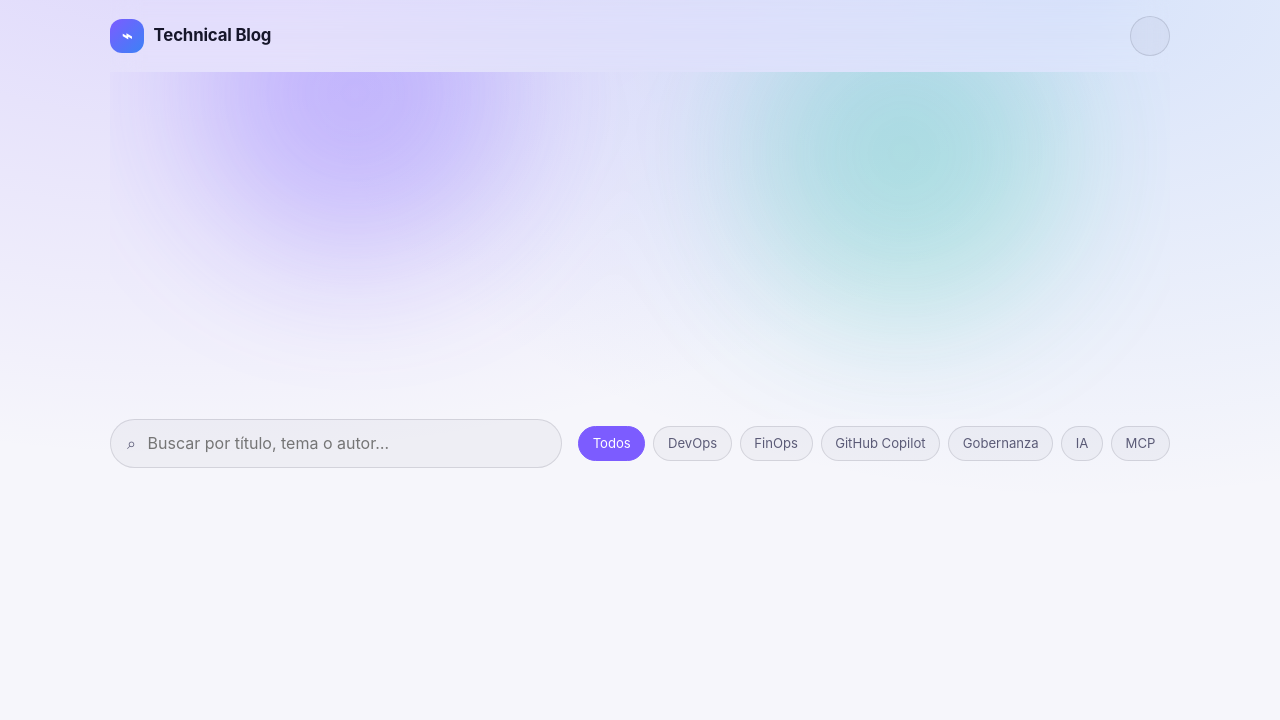
App › filtra los artículos al escribir en el buscador
Step 1. Type "mcp" into the search field named "Buscar artículos" → (345, 443), box [146,429,545,458]
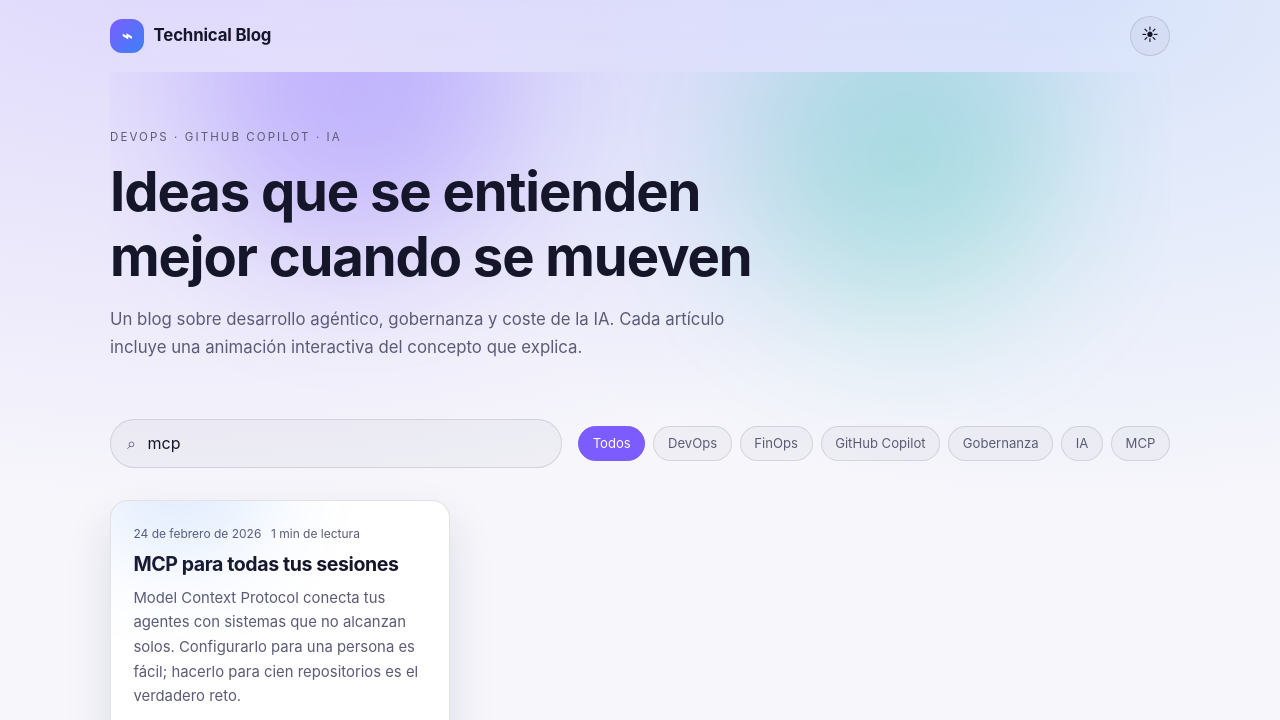
Now the heading "MCP para todas tus sesiones" is shown, box [133,553,399,576]
